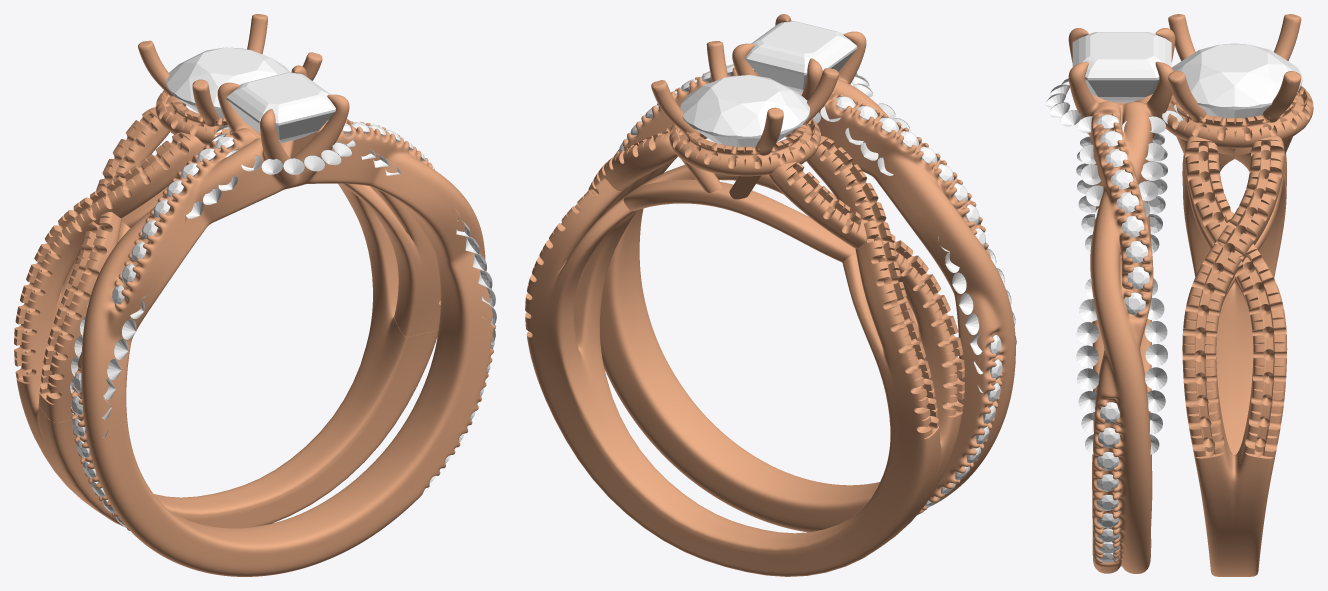
File: mainnnnn (1).glb
3 renders of one model, left to right at view 1: azimuth 30°, elevation 25°; view 2: azimuth 150°, elevation 25°; view 3: azimuth 270°, elevation 25°, orthographic. The views are drawn at different scales.
Visible parts, largest first — view 1: Metal_01, Metal_04, CS_Diamond_Emerald_Square, Diamond_Round; view 2: Metal_04, Metal_01, Diamond_Round, CS_Diamond_Emerald_Square; view 3: Metal_04, Metal_01, Diamond_Round, CS_Diamond_Emerald_Square, Diamond_Round_70, Diamond_Round_71, Diamond_Round_56, Diamond_Round_57, Diamond_Round_55, Diamond_Round_72, Diamond_Round_GEM_SH016, Diamond_Round_GEM_SH015 (+4 smaller).
Boxes of the visible parts, x1,y1,x2,y2 form: Metal_01: (71,65,495,576); Metal_04: (14,14,440,528); CS_Diamond_Emerald_Square: (226,72,335,142); Diamond_Round: (166,47,290,118); Metal_04: (525,41,964,576); Metal_01: (600,14,1015,532); Diamond_Round: (680,75,810,147); CS_Diamond_Emerald_Square: (745,21,857,92); Metal_04: (1162,14,1313,576); Metal_01: (1068,28,1175,573); Diamond_Round: (1172,43,1302,118); CS_Diamond_Emerald_Square: (1072,32,1171,102); Diamond_Round_70: (1076,322,1099,344); Diamond_Round_71: (1076,345,1098,367); Diamond_Round_56: (1145,344,1167,366); Diamond_Round_57: (1145,367,1167,389); Diamond_Round_55: (1145,321,1167,343); Diamond_Round_72: (1077,368,1099,390); Diamond_Round_GEM_SH016: (1127,266,1149,288); Diamond_Round_GEM_SH015: (1125,241,1147,262).
Size of the model in its own units: 2.51 by 2.81 by 1.34.
